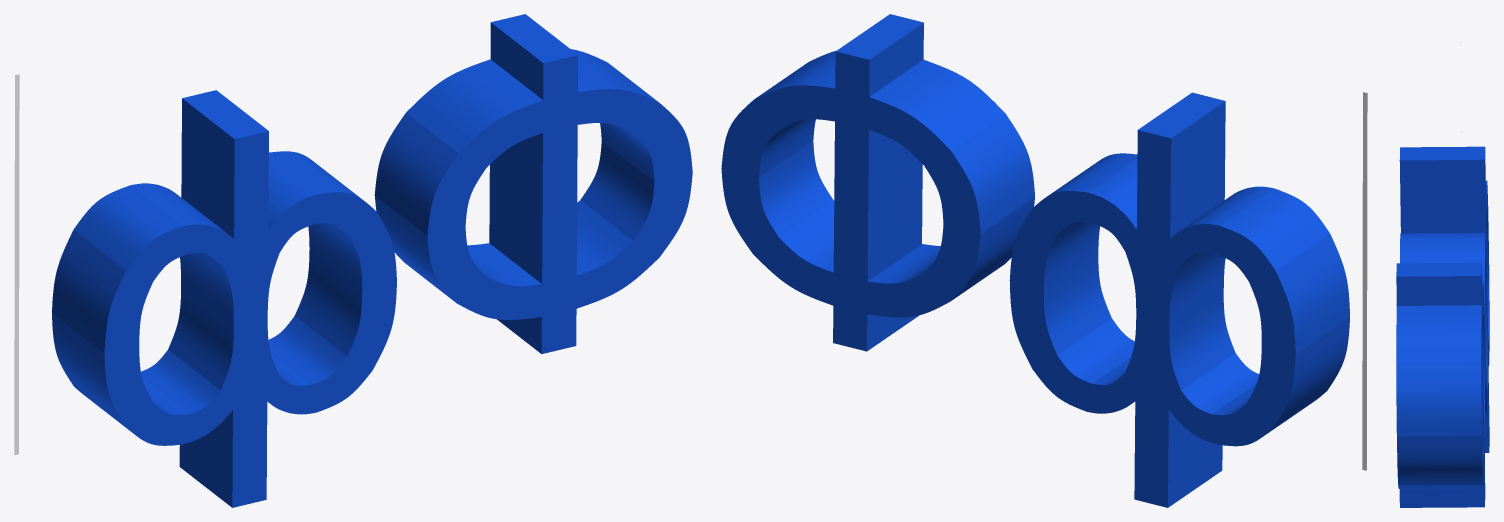
The picture shows the model from 3 angles, left to right: view 1: azimuth 30°, elevation 25°; view 2: azimuth 150°, elevation 25°; view 3: azimuth 270°, elevation 25°; orthographic projection. The views are drawn at different scales.
Visible parts, largest first — view 1: Mesh_0.026, Плоскость; view 2: Mesh_0.026, Плоскость; view 3: Mesh_0.026.
Boxes of the visible parts, x1=… form: Mesh_0.026: x1=52, y1=14, x2=692, y2=507; Плоскость: x1=14, y1=74, x2=19, y2=455; Mesh_0.026: x1=721, y1=14, x2=1349, y2=507; Плоскость: x1=1362, y1=92, x2=1367, y2=470; Mesh_0.026: x1=1396, y1=146, x2=1489, y2=507.
Bounding box in the file's own units: 16.47 × 11.12 × 2.64.
